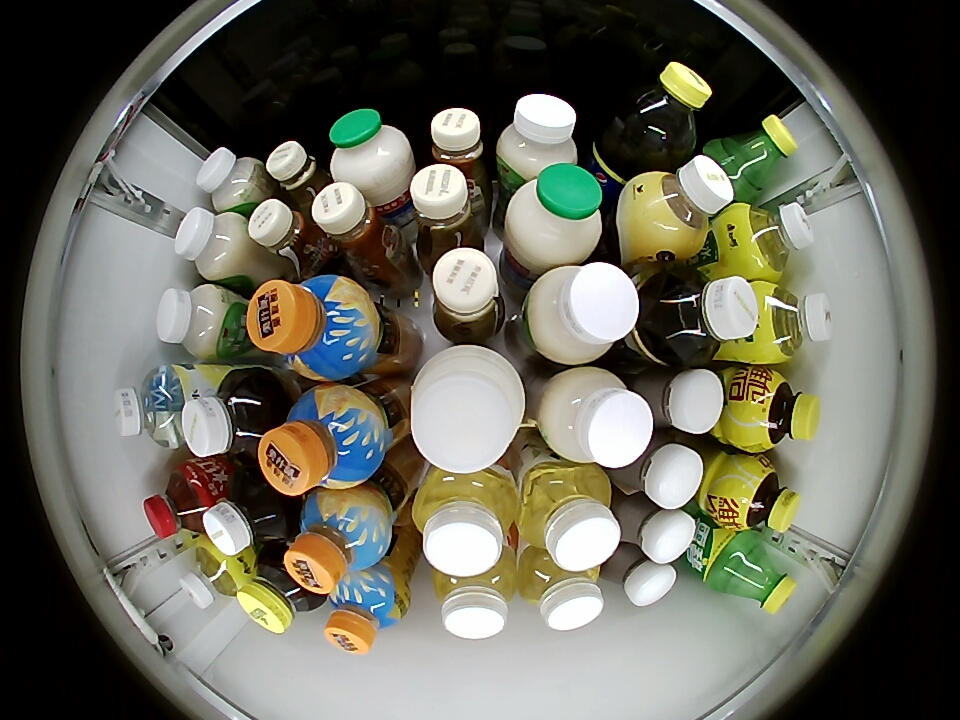asamu: (631, 153, 734, 255)
baishikele: (615, 61, 712, 158)
binghongcha: (143, 462, 217, 540)
bingtangxueli: (751, 282, 834, 363), (729, 202, 814, 279), (179, 540, 248, 609)
chacui: (237, 549, 324, 633)
chapai2: (411, 467, 518, 578), (518, 461, 620, 571), (430, 553, 516, 640), (517, 546, 604, 631)
guolicheng: (258, 385, 384, 495), (247, 275, 378, 380), (286, 488, 392, 594), (324, 568, 409, 654)
kafei: (311, 181, 407, 278), (410, 162, 489, 263), (434, 248, 506, 344), (248, 199, 334, 276), (266, 141, 334, 210), (431, 108, 486, 178)
liziyuan: (503, 163, 606, 269), (329, 107, 414, 204)
qinningshui: (113, 365, 188, 449)
weitaningmeng-bottle: (738, 368, 820, 452), (722, 457, 801, 535)
wulongcha: (655, 271, 759, 363), (181, 369, 278, 462), (202, 471, 293, 557)
xuebi-b: (715, 114, 798, 197), (717, 538, 797, 615)
yingyangkuaixian: (410, 344, 527, 474)
yousuanru: (523, 262, 640, 366), (536, 366, 652, 468), (495, 94, 579, 183), (173, 207, 252, 284), (156, 284, 236, 359), (197, 148, 270, 216)
youyanggudong: (616, 431, 705, 509), (639, 366, 725, 434), (618, 497, 696, 563), (603, 544, 678, 607)
